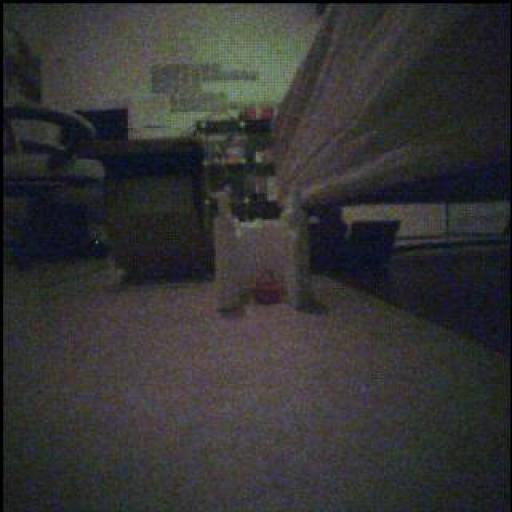basket: (254, 273, 284, 305)
